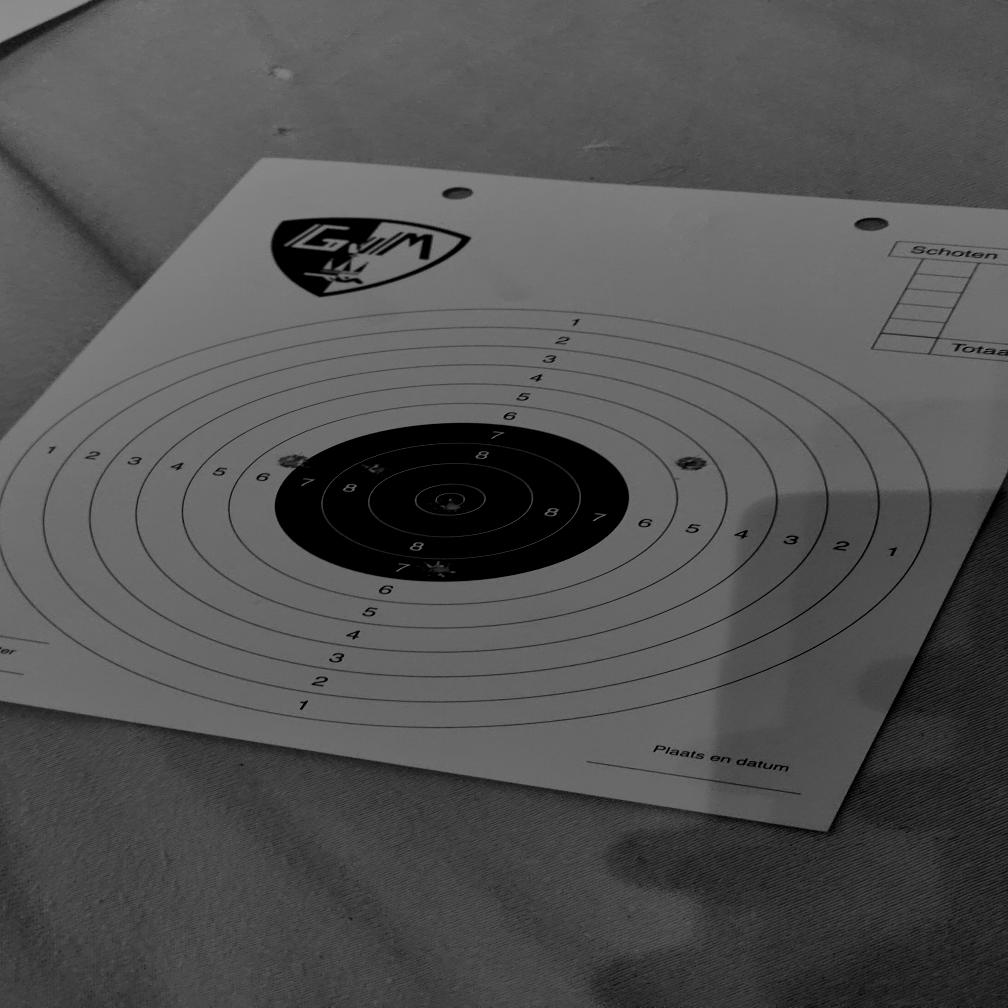10: (426, 497, 475, 516)
5: (676, 455, 709, 472)
7: (415, 557, 460, 580), (276, 453, 315, 470)
8: (355, 458, 394, 477)
Target: (0, 306, 938, 732)
black_contour: (276, 422, 630, 582)
